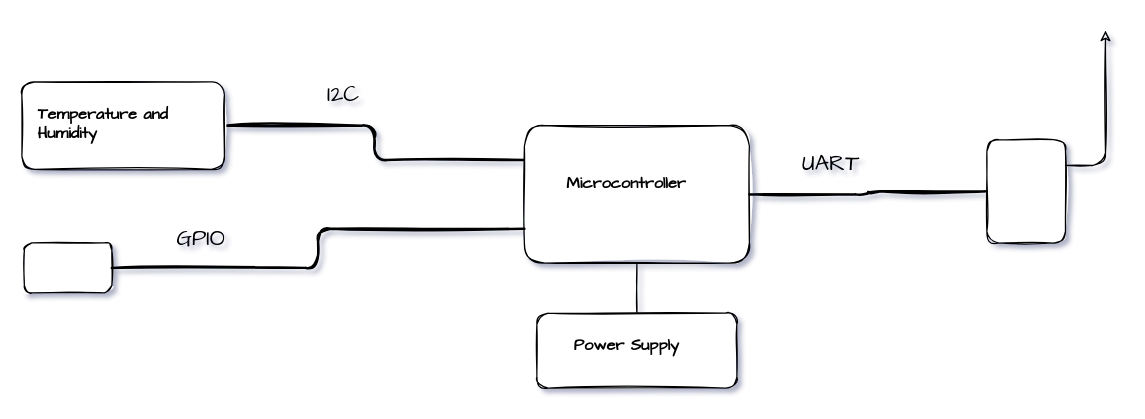
Some shapes in this 1145 by 419 pixel diagram are drawn without their labels. Here are the shapes that lost their labels. From the top down, the box of each, then its label:
(986, 138, 1066, 243): LoRa chip
(23, 242, 112, 293): Debug Button
